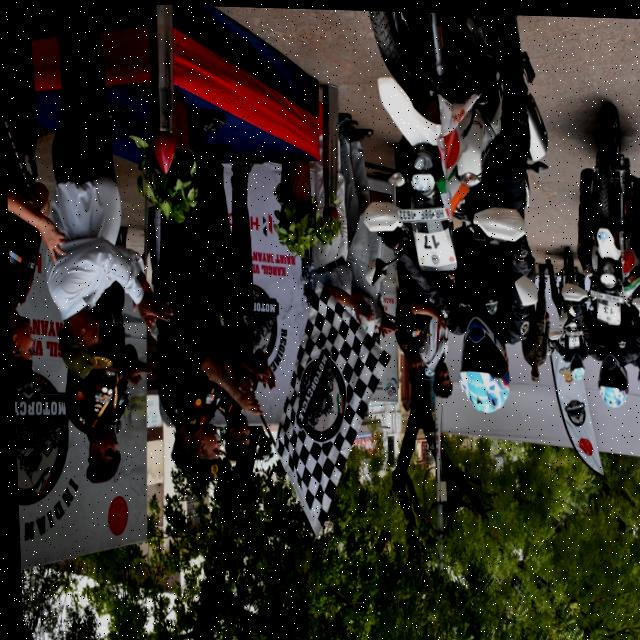plate: (396, 204, 446, 223), (586, 284, 624, 302), (561, 326, 581, 333)
